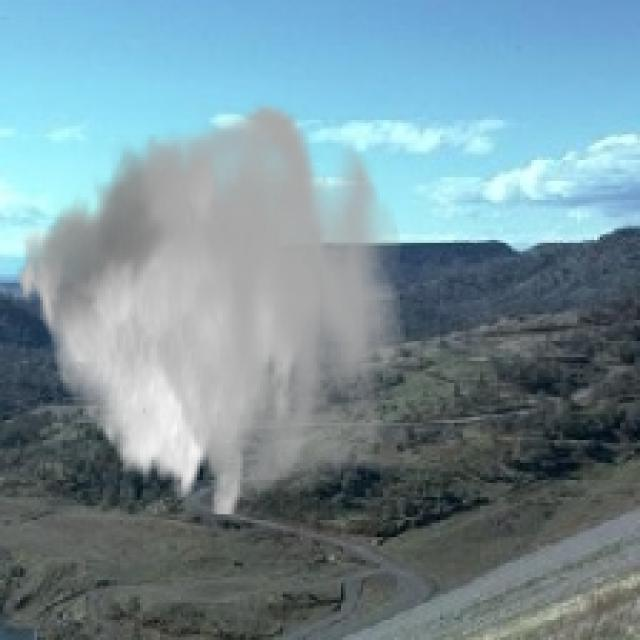Smoke: (14, 97, 406, 514)
